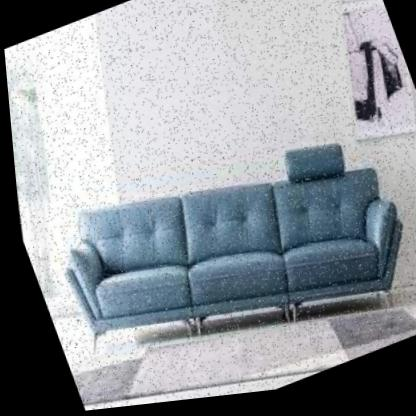Sofa: (36, 102, 416, 411)
